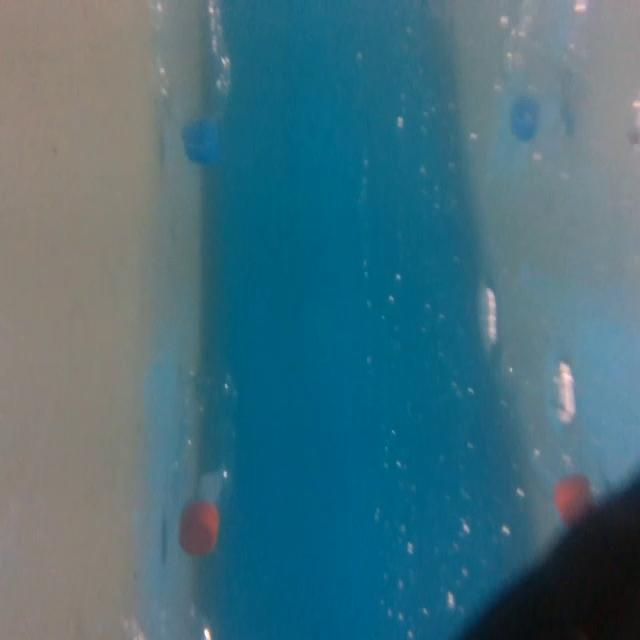plastic bottle: (164, 352, 244, 561), (144, 0, 241, 168)
